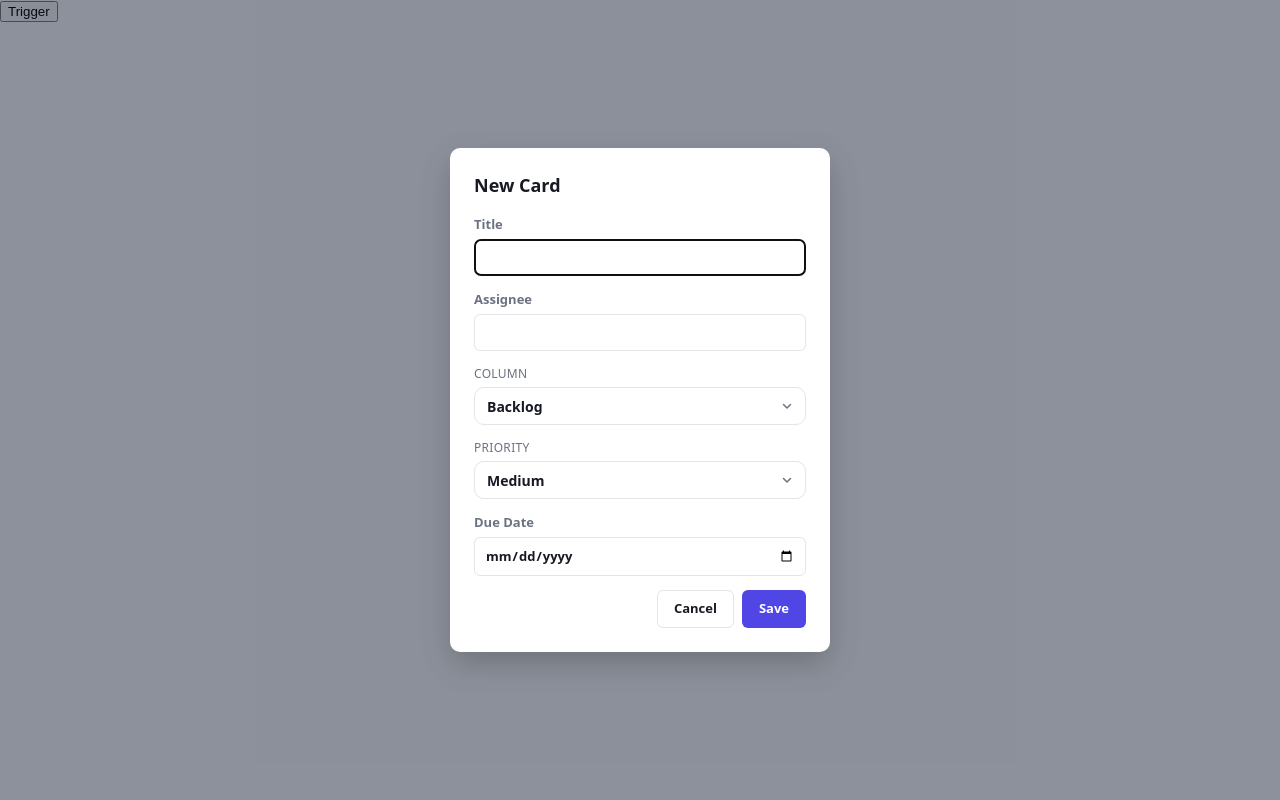
Test: CardModal › marks the Title field invalid and announces the error when required fields are missing
The width and height of the screenshot is (1280, 800).
In the field labelled "Assignee": x=640, y=333 [474, 314, 806, 351], type "Alice"
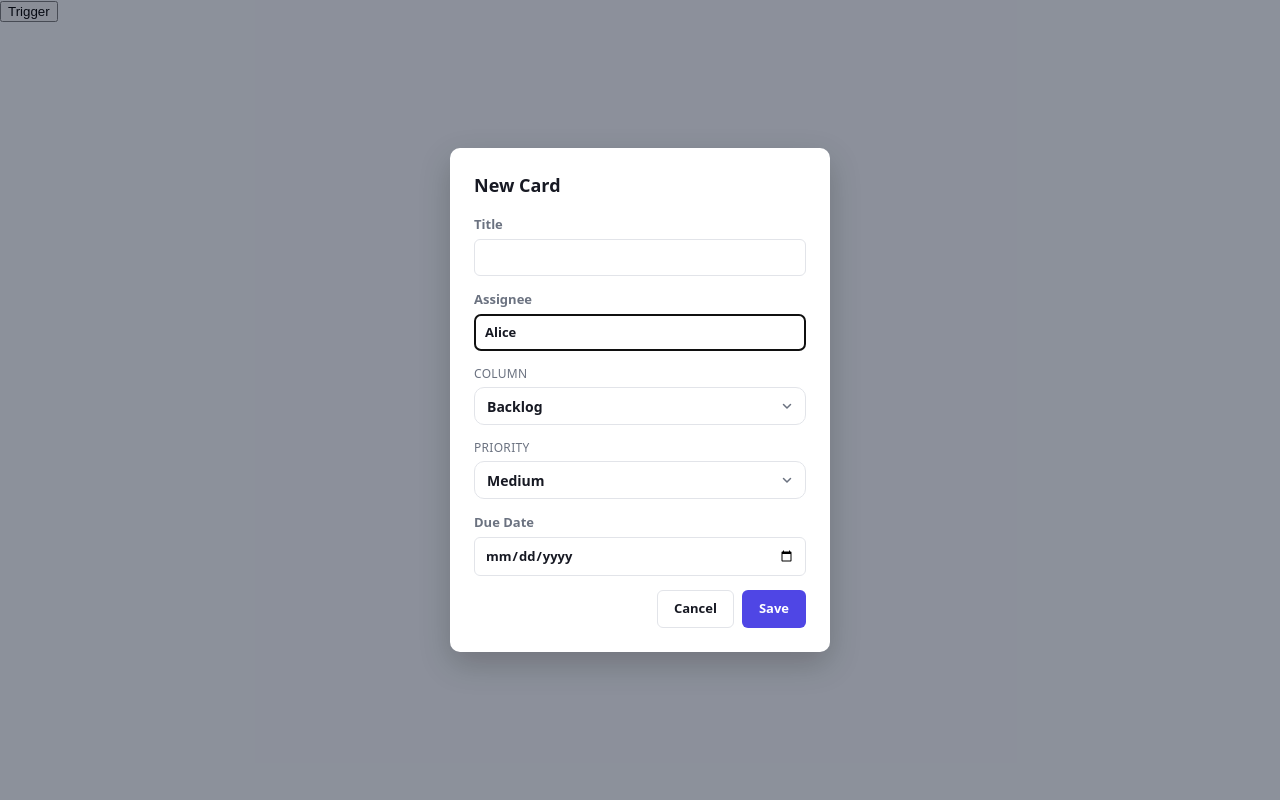
Click the button "Save": x=774, y=609 [742, 590, 806, 628]
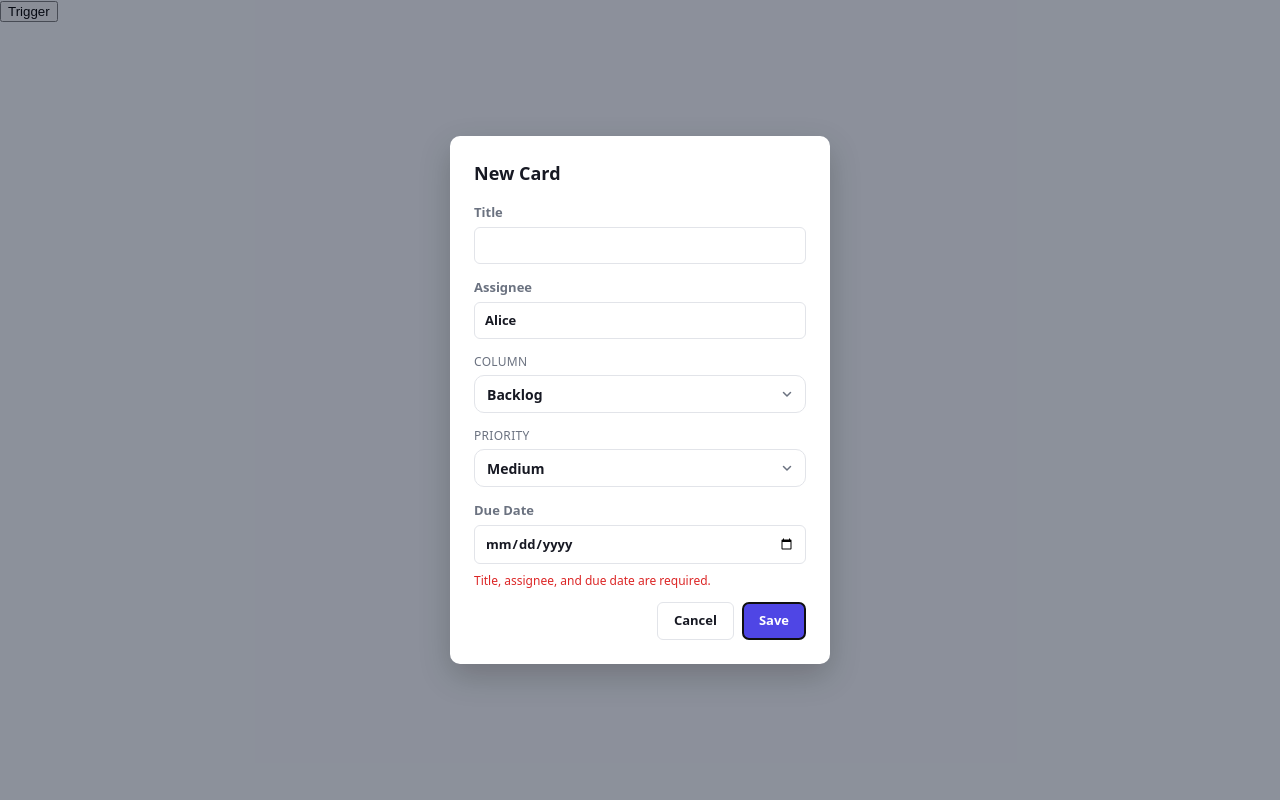
Result: the message reads "Title, assignee, and due date are required." at [474, 572, 711, 589]
